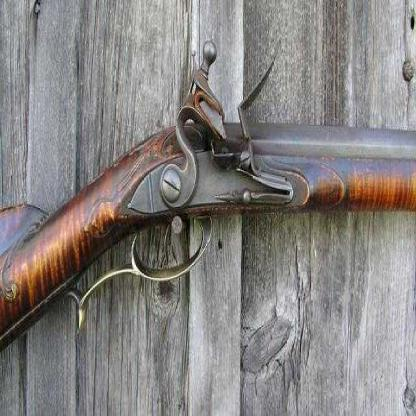rifle: (0, 44, 415, 365)
